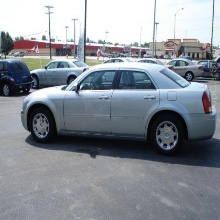no damage: (21, 62, 216, 155), (32, 58, 90, 89), (1, 58, 34, 98), (166, 58, 205, 79)
